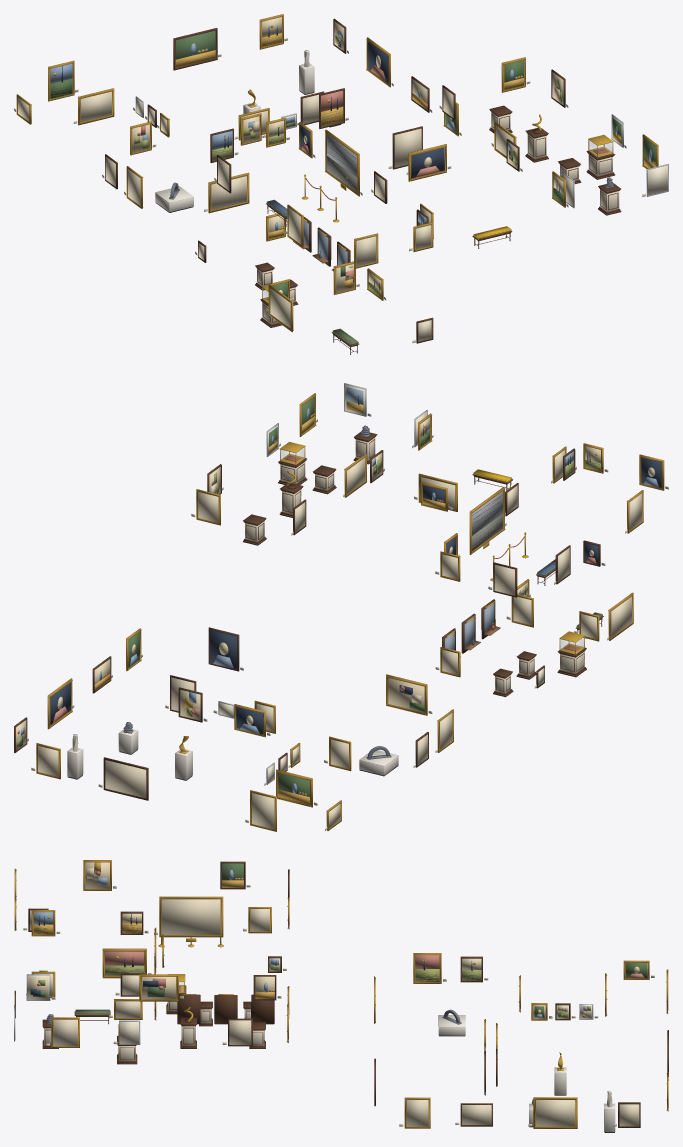
The model's file is Museum_Int_Exhibition_Rooms.fbx.
The picture shows the model from 3 angles, top to bottom: view 1: azimuth 30°, elevation 25°; view 2: azimuth 150°, elevation 25°; view 3: azimuth 270°, elevation 25°; orthographic projection. The views are drawn at different scales.
Visible parts, largest first — view 1: ArtSlot_GalleryV_Featured_GreyField, ArtSlot_GalleryVII_North_2, ArtSlot_GalleryVII_South_W, ArtSlot_GalleryIV_North, ArtSlot_GalleryVII_Mint_N, GalleryIII_Niches, GalleryVI_Vitrine, ArtSlot_GalleryVII_South_E, ArtSlot_GalleryVII_North_1, ArtSlot_GalleryVII_Wall_S3, ArtSlot_GalleryVII_East_3, ArtSlot_GalleryI_West (+16 smaller); view 2: ArtSlot_GalleryV_Featured_GreyField, ArtSlot_GalleryVII_North_2, ArtSlot_GalleryVII_South_W, GalleryIII_Niches, ArtSlot_GalleryVII_South_E, ArtSlot_GalleryVII_Mint_N, GalleryIII_Vitrine, GalleryVI_Vitrine, ArtSlot_GalleryVII_North_1, ArtSlot_GalleryVII_East_3, ArtSlot_GalleryVII_Wall_N1, ArtSlot_GalleryI_West (+11 smaller); view 3: ArtSlot_GalleryV_Featured_GreyField, GalleryIII_Niches, ArtSlot_GalleryVII_East_3, ArtSlot_GalleryI_West, ArtSlot_GalleryVI_West_M, ArtSlot_GalleryVII_West_1, ArtSlot_GalleryVI_East_S, ArtSlot_GalleryV_West_S, ArtSlot_GalleryVII_East_1, ArtSlot_GalleryVII_East_2, ArtSlot_GalleryV_West_N, ArtSlot_GalleryVI_East_N (+14 smaller).
Part boxes in pixels (x1=…): ArtSlot_GalleryV_Featured_GreyField: x1=325, y1=129, x2=362, y2=196; ArtSlot_GalleryVII_North_2: x1=173, y1=28, x2=221, y2=70; ArtSlot_GalleryVII_South_W: x1=204, y1=172, x2=249, y2=213; ArtSlot_GalleryIV_North: x1=408, y1=144, x2=451, y2=181; ArtSlot_GalleryVII_Mint_N: x1=73, y1=88, x2=114, y2=125; GalleryIII_Niches: x1=293, y1=217, x2=350, y2=271; GalleryVI_Vitrine: x1=586, y1=135, x2=615, y2=179; ArtSlot_GalleryVII_South_E: x1=388, y1=126, x2=422, y2=169; ArtSlot_GalleryVII_North_1: x1=48, y1=60, x2=78, y2=101; ArtSlot_GalleryVII_Wall_S3: x1=319, y1=88, x2=348, y2=128; ArtSlot_GalleryVII_East_3: x1=366, y1=37, x2=393, y2=87; ArtSlot_GalleryI_West: x1=266, y1=284, x2=293, y2=332; ArtSlot_GalleryV_Featured_GreyField: x1=469, y1=487, x2=506, y2=554; ArtSlot_GalleryVII_North_2: x1=98, y1=757, x2=148, y2=800; ArtSlot_GalleryVII_South_W: x1=386, y1=674, x2=432, y2=715; GalleryIII_Niches: x1=442, y1=599, x2=500, y2=656; ArtSlot_GalleryVII_South_E: x1=208, y1=627, x2=243, y2=671; ArtSlot_GalleryVII_Mint_N: x1=276, y1=769, x2=317, y2=807; GalleryIII_Vitrine: x1=557, y1=631, x2=586, y2=677; GalleryVI_Vitrine: x1=278, y1=442, x2=307, y2=484; ArtSlot_GalleryVII_North_1: x1=245, y1=790, x2=276, y2=831; ArtSlot_GalleryVII_East_3: x1=47, y1=678, x2=74, y2=729; ArtSlot_GalleryVII_Wall_N1: x1=234, y1=704, x2=270, y2=737; ArtSlot_GalleryI_West: x1=607, y1=592, x2=633, y2=640; ArtSlot_GalleryV_Featured_GreyField: x1=154, y1=896, x2=223, y2=937; GalleryIII_Niches: x1=177, y1=994, x2=274, y2=1024; ArtSlot_GalleryVII_East_3: x1=528, y1=1097, x2=577, y2=1128; ArtSlot_GalleryI_West: x1=102, y1=948, x2=151, y2=978; ArtSlot_GalleryVI_West_M: x1=139, y1=974, x2=183, y2=1001; ArtSlot_GalleryVII_West_1: x1=413, y1=953, x2=446, y2=983; ArtSlot_GalleryVI_East_S: x1=46, y1=1017, x2=79, y2=1047; ArtSlot_GalleryV_West_S: x1=83, y1=860, x2=116, y2=890; ArtSlot_GalleryVII_East_1: x1=399, y1=1097, x2=430, y2=1128; ArtSlot_GalleryVII_East_2: x1=455, y1=1103, x2=492, y2=1126; ArtSlot_GalleryV_West_N: x1=220, y1=861, x2=250, y2=889; ArtSlot_GalleryVI_East_N: x1=222, y1=1018, x2=252, y2=1046.
Bounding box in the file's own units: 15.18 × 6.65 × 26.61.
